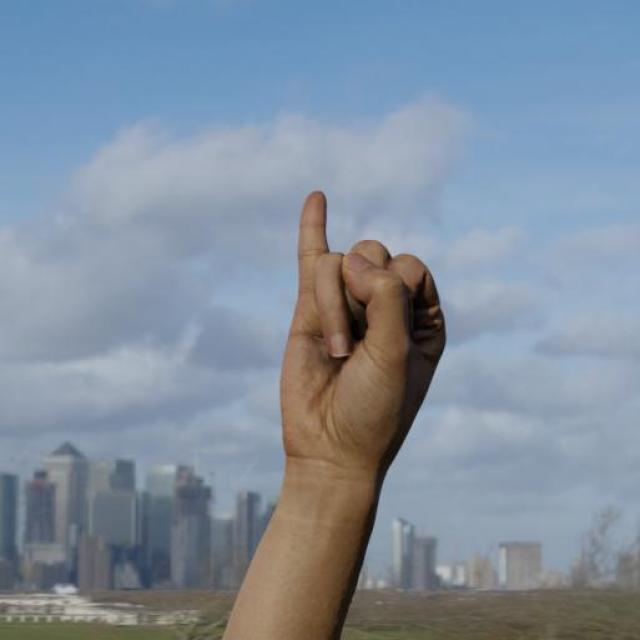I: (277, 187, 450, 475)
